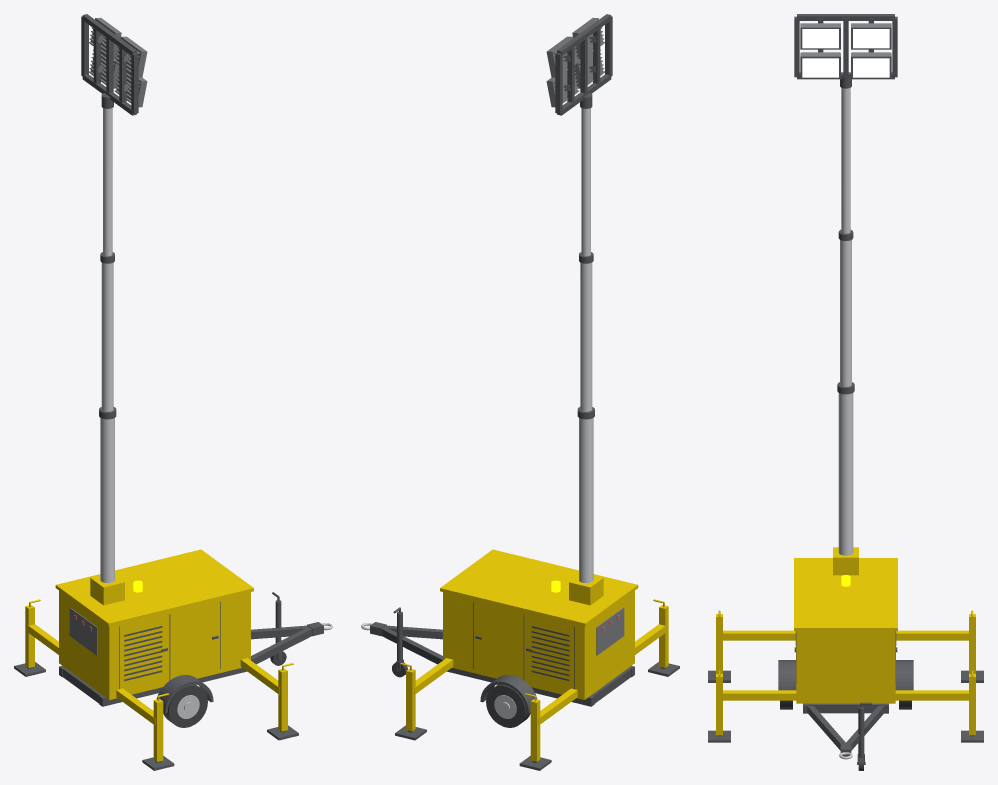
Rendered from LED_Light_Tower.glb.
The picture shows the model from 3 angles, left to right: view 1: azimuth 30°, elevation 25°; view 2: azimuth 150°, elevation 25°; view 3: azimuth 270°, elevation 25°; orthographic projection.
Visible parts, largest first — view 1: enclosure, fender, mast, control_panel, tyre; view 2: enclosure, fender, mast, control_panel, tyre; view 3: enclosure, fender, mast, led_lenses, control_panel.
Part boxes in pixels (bbox=[...]): enclosure: bbox=[25, 549, 293, 761]; fender: bbox=[14, 14, 323, 770]; mast: bbox=[100, 108, 114, 582]; control_panel: bbox=[69, 17, 147, 655]; tyre: bbox=[163, 651, 286, 727]; enclosure: bbox=[400, 549, 668, 761]; fender: bbox=[370, 14, 679, 770]; mast: bbox=[579, 108, 593, 582]; control_panel: bbox=[546, 17, 624, 655]; tyre: bbox=[392, 662, 530, 727]; enclosure: bbox=[716, 547, 975, 735]; fender: bbox=[708, 14, 983, 764]; mast: bbox=[838, 88, 853, 555]; led_lenses: bbox=[802, 29, 889, 77]; control_panel: bbox=[800, 23, 891, 78].
Bounding box in the file's own units: 74.56 × 193 × 72.
